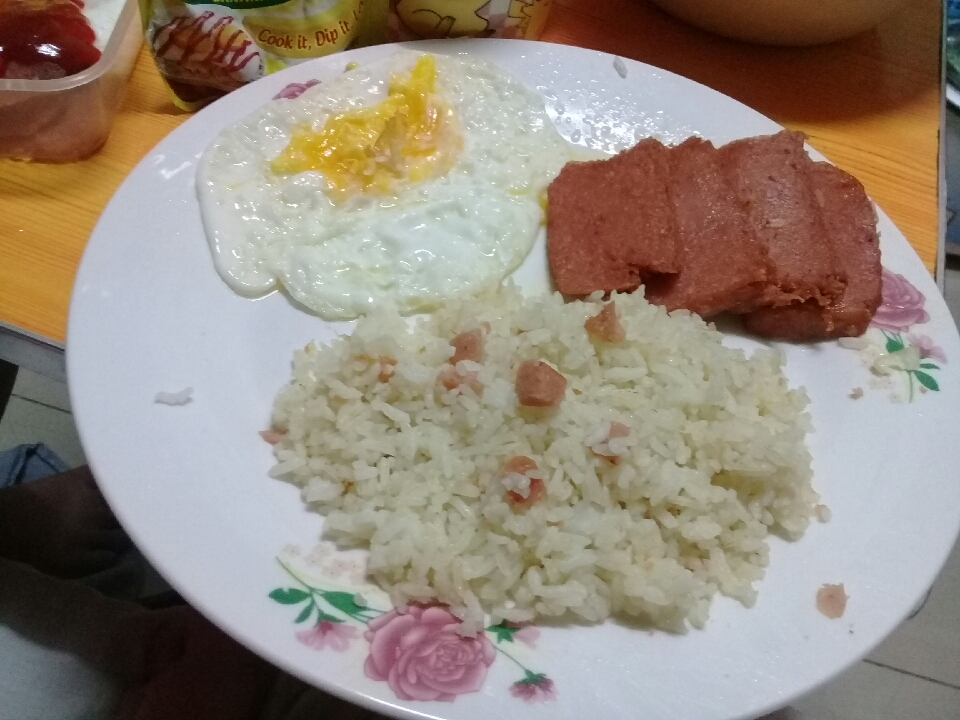fried egg: (250, 108, 499, 254)
plain rice: (350, 342, 728, 557)
